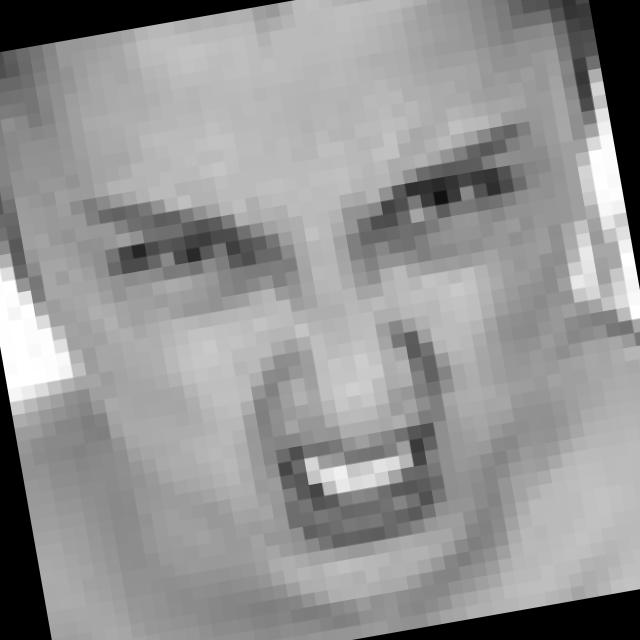angry: (73, 116, 598, 582)
